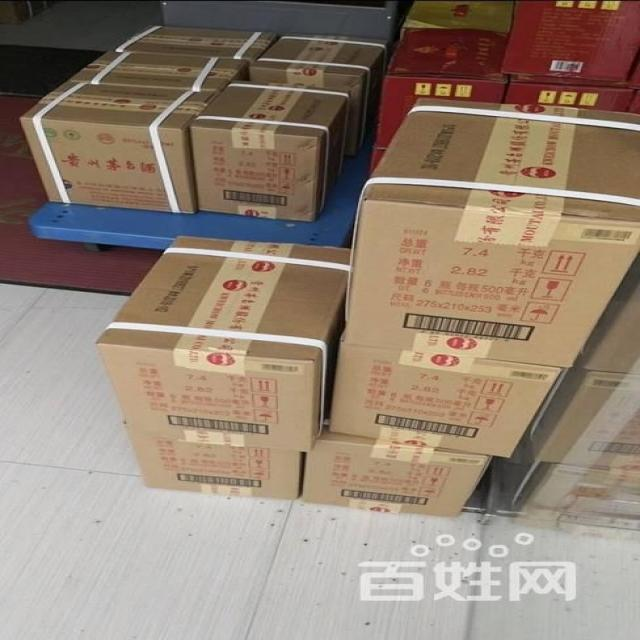Carton: (96, 201, 637, 455), (358, 98, 637, 221), (20, 81, 214, 212), (94, 344, 311, 451), (189, 82, 350, 218), (303, 442, 492, 522), (68, 50, 245, 90), (387, 26, 508, 80), (249, 33, 390, 78), (113, 23, 277, 58)
